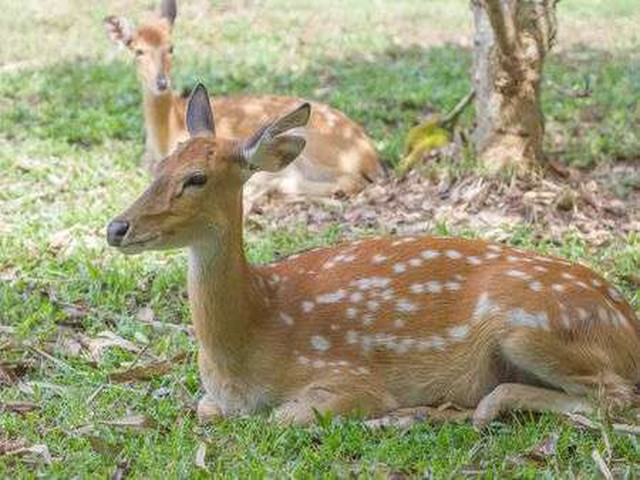deer: (101, 84, 640, 432), (96, 3, 183, 151)
